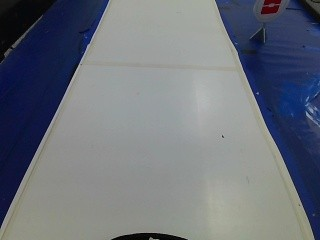company: (253, 0, 288, 24)
